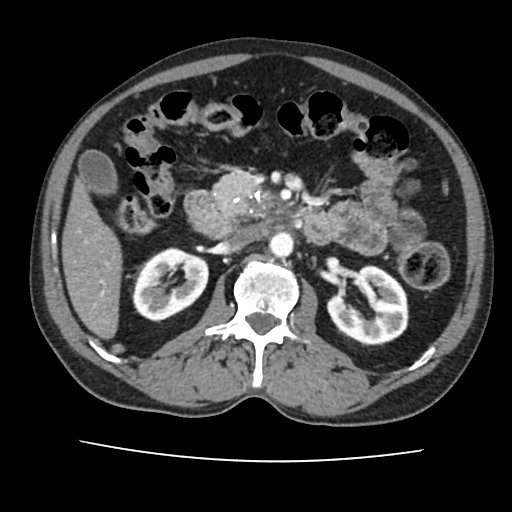aorta: (267, 232, 294, 259)
